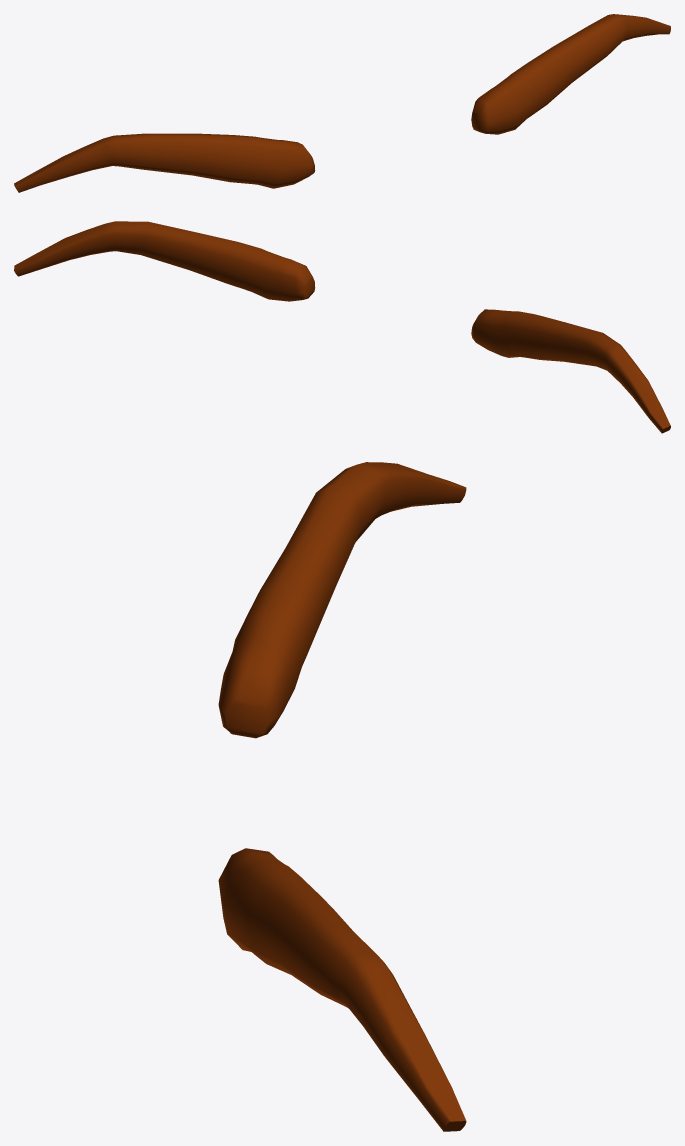
File: Eyebrows_11_02.fbx
The picture shows the model from 3 angles, top to bottom: view 1: azimuth 30°, elevation 25°; view 2: azimuth 150°, elevation 25°; view 3: azimuth 270°, elevation 25°; orthographic projection. The views are drawn at different scales.
Visible parts, largest first — view 1: Eyebrows_11_02; view 2: Eyebrows_11_02; view 3: Eyebrows_11_02.
Part boxes in pixels (x1,y1,x2,y2): Eyebrows_11_02: [14, 14, 670, 192]; Eyebrows_11_02: [14, 221, 670, 433]; Eyebrows_11_02: [218, 462, 466, 1131].
Bounding box in the file's own units: 19.56 × 1.82 × 3.2.
